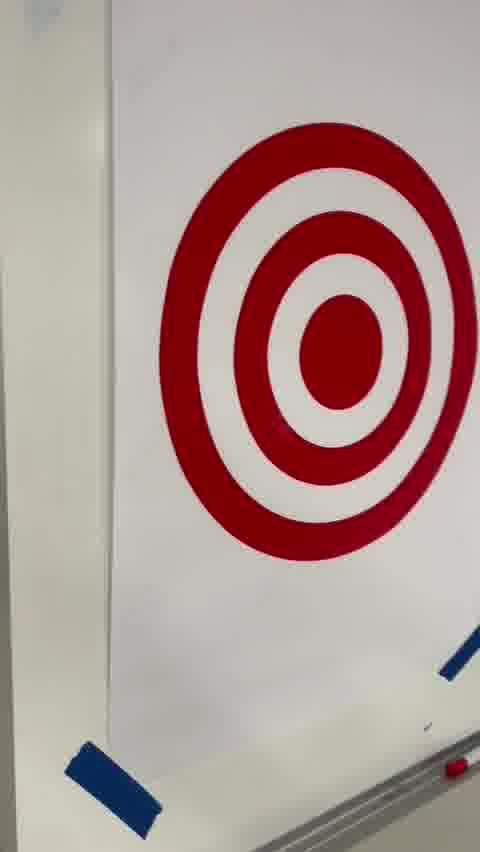target_red: (159, 119, 480, 561)
